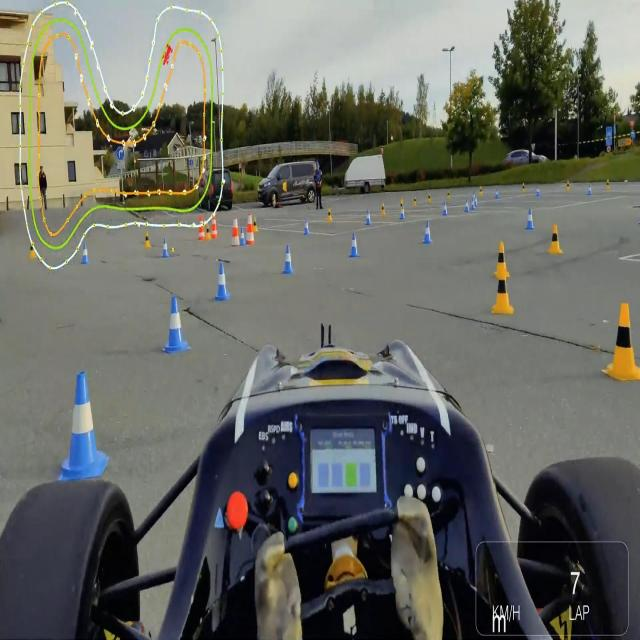blue_cone: (59, 370, 109, 482), (164, 295, 190, 353), (216, 264, 230, 301), (283, 246, 295, 274), (350, 231, 360, 256), (526, 206, 536, 229), (82, 243, 90, 265), (424, 221, 432, 243), (162, 237, 169, 259), (240, 227, 246, 246), (366, 208, 372, 226), (400, 204, 406, 220), (304, 216, 309, 235), (443, 200, 448, 214)
large_orange_cone: (245, 213, 255, 245), (232, 218, 239, 246), (210, 212, 217, 239), (199, 215, 205, 239)
yellow_cone: (602, 301, 640, 382), (492, 265, 514, 314), (494, 242, 509, 277), (549, 224, 563, 254), (29, 238, 36, 258), (252, 216, 260, 233), (205, 223, 212, 240), (144, 230, 150, 248), (327, 208, 332, 224)
